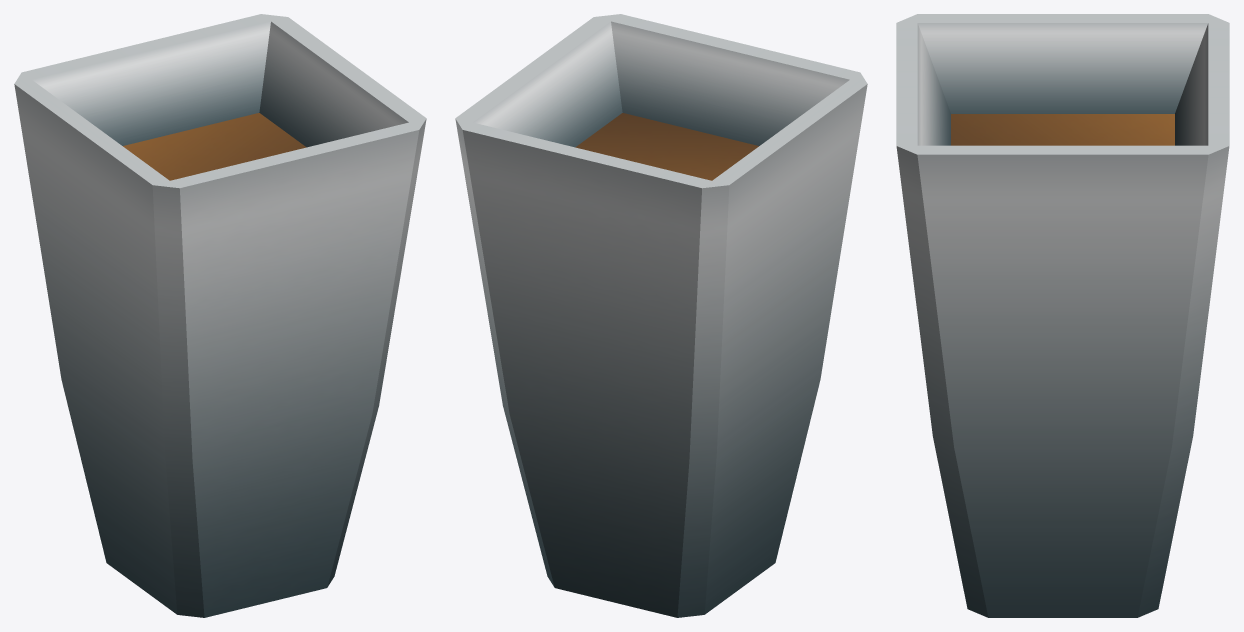
Rendered from PlantPotSquarish.fbx.
3 renders of one model, left to right at view 1: azimuth 30°, elevation 25°; view 2: azimuth 150°, elevation 25°; view 3: azimuth 270°, elevation 25°, orthographic. The views are drawn at different scales.
Parts seen in each view (by area): view 1: PlantPotSquarish; view 2: PlantPotSquarish; view 3: PlantPotSquarish.
Part boxes in pixels (box(x1,y1,x2,y2)): PlantPotSquarish: box(14, 14, 426, 617); PlantPotSquarish: box(455, 14, 867, 617); PlantPotSquarish: box(896, 14, 1229, 617).
Size of the model in its own units: 13.52 by 22.09 by 13.52.
